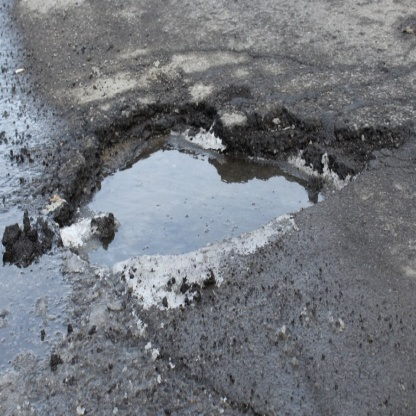pothole: (1, 91, 399, 319)
